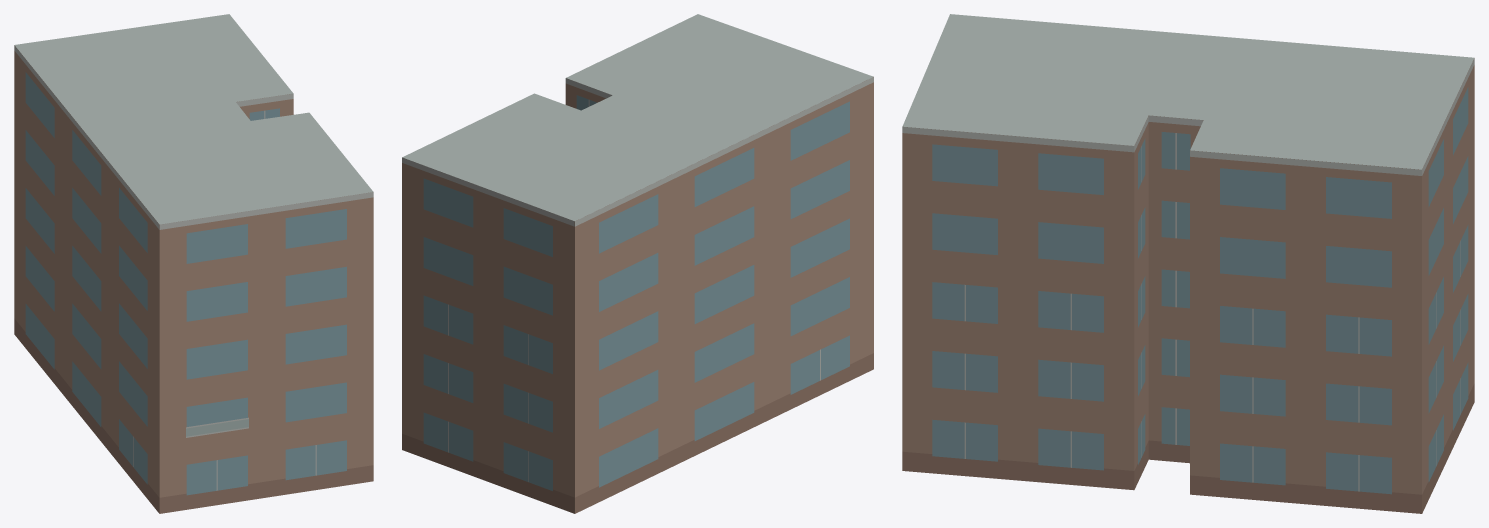
Rendered from survey-upis-32540954.glb.
3 views of the same model, side by side, from view 1: azimuth 30°, elevation 25°; view 2: azimuth 150°, elevation 25°; view 3: azimuth 270°, elevation 25° (orthographic). The views are drawn at different scales.
Parts seen in each view (by area): view 1: survey-upis-32540954.tmp; view 2: survey-upis-32540954.tmp; view 3: survey-upis-32540954.tmp.
Part boxes in pixels (left/top/right/bottom): survey-upis-32540954.tmp: left=14, top=14, right=373, bottom=513; survey-upis-32540954.tmp: left=402, top=14, right=873, bottom=513; survey-upis-32540954.tmp: left=902, top=14, right=1474, bottom=513.
Size of the model in its own units: 12.72 by 13.1 by 19.75.
